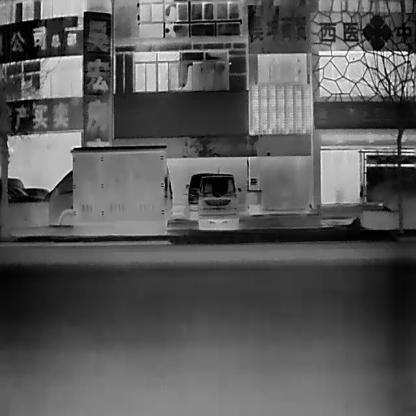car: (198, 173, 239, 229), (185, 173, 204, 220)
